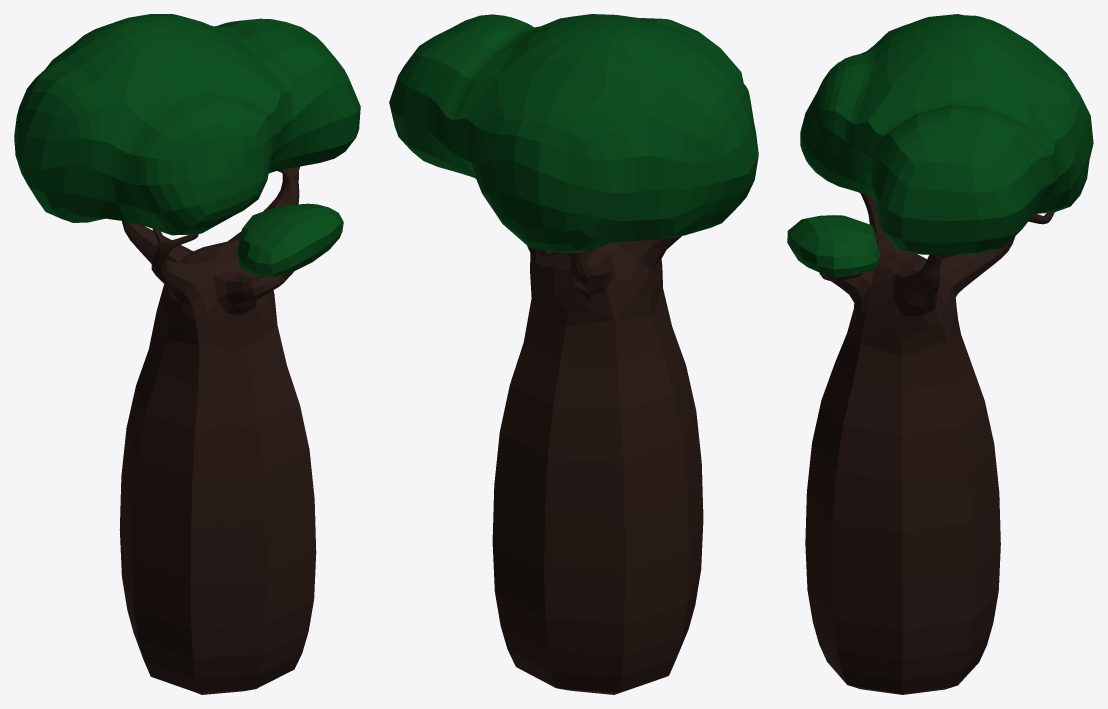
Rendered from lp_tree_4_Cube_033.obj.
3 renders of one model, left to right at view 1: azimuth 30°, elevation 25°; view 2: azimuth 150°, elevation 25°; view 3: azimuth 270°, elevation 25°, orthographic. The views are drawn at different scales.
Visible parts, largest first — view 1: lp_tree_4_Cube_033; view 2: lp_tree_4_Cube_033; view 3: lp_tree_4_Cube_033.
Boxes of the visible parts, x1,y1,x2,y2 form: lp_tree_4_Cube_033: (14,14,360,694); lp_tree_4_Cube_033: (389,14,758,694); lp_tree_4_Cube_033: (787,14,1093,694).
Size of the model in its own units: 8.29 by 15.87 by 6.98.
